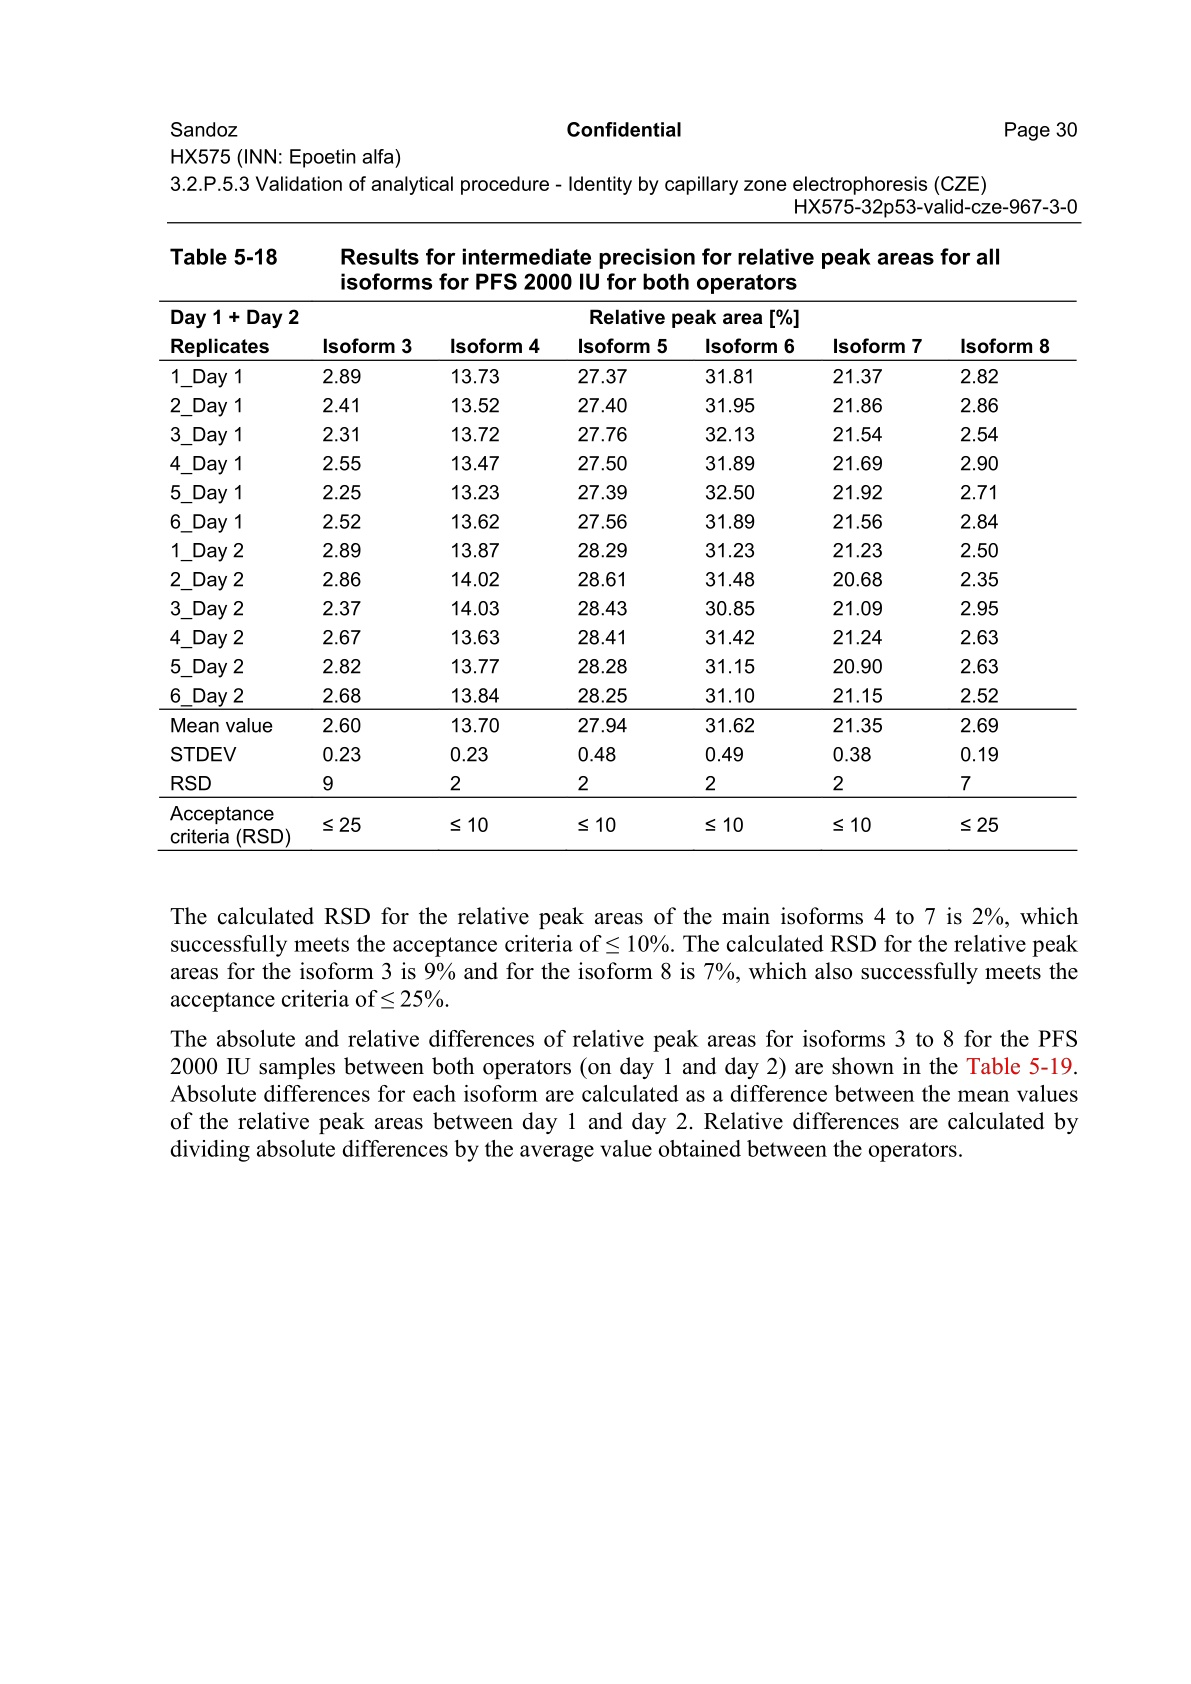partial_lined_merged_cells: (159, 299, 1079, 852)
